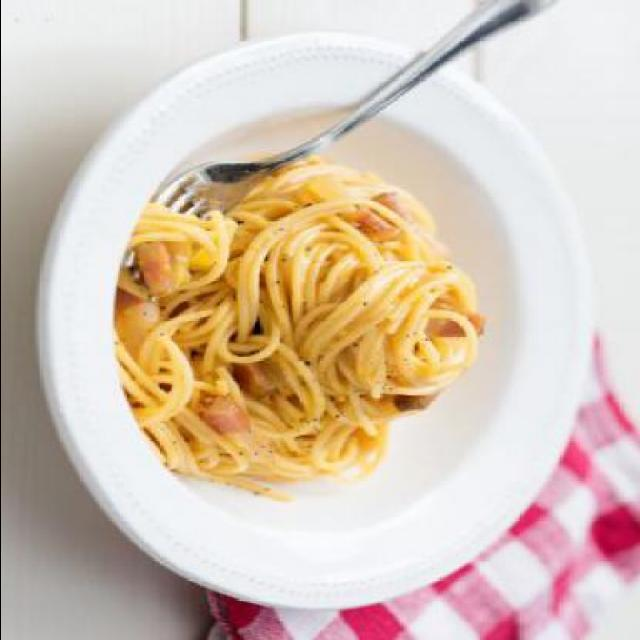Pasta with carbonara sauce: (98, 126, 510, 540)
